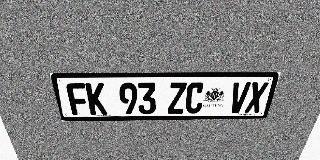3: (138, 82, 156, 114)
9: (119, 83, 138, 114)
C: (185, 82, 205, 114)
F: (65, 83, 90, 115)
K: (85, 83, 108, 115)
V: (228, 82, 251, 113)
X: (244, 82, 269, 113)
Z: (168, 82, 187, 114)
